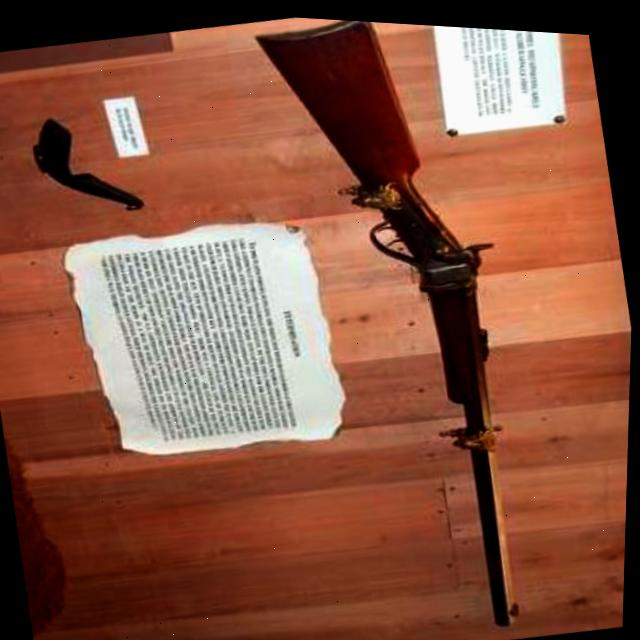rifle: (243, 12, 561, 640)
